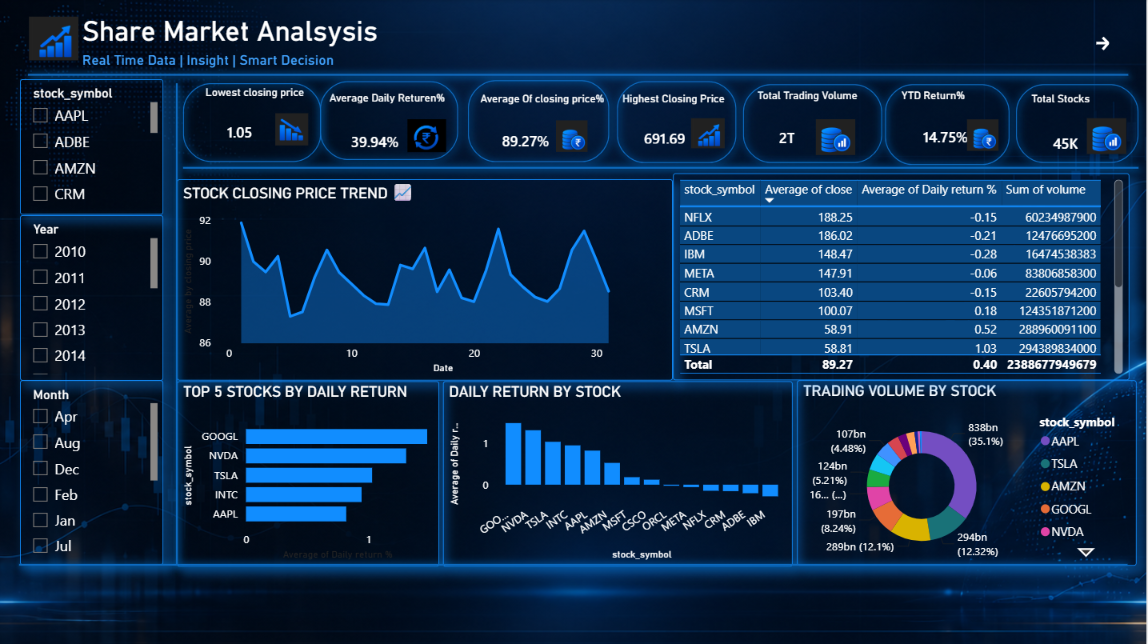

The dashboard page shown, as its layout file describes it:
{"tool":"powerbi","page":{"name":"MARKET_OVERVIEW","canvas":[1280,720],"ordinal":0},"visuals":[{"type":"cardVisual","title":"Total Trading Volume","fields":{"Data":["big_tech_stock_prices.Total Trading Volume"]},"box":[840.7,100,123.3,80.2],"z":0},{"type":"stackedAreaChart","title":"STOCK CLOSING PRICE TREND 📈","fields":{"Category":["big_tech_stock_prices.date.Variation.Date Hierarchy.Day"],"Y":["Avg(big_tech_stock_prices.close)"]},"box":[197.7,201.2,553.5,224.4],"z":1000},{"type":"clusteredBarChart","title":"TOP 5 STOCKS BY DAILY RETURN","fields":{"Category":["big_tech_stock_prices.stock_symbol"],"Y":["Avg(big_tech_stock_prices.Daily return %)"]},"box":[198,426,293,207],"z":2000},{"type":"donutChart","title":"TRADING VOLUME BY STOCK","fields":{"Category":["big_tech_stock_prices.stock_symbol"],"Y":["Sum(big_tech_stock_prices.volume)"]},"box":[889.5,425.6,379.1,207],"z":3000},{"type":"clusteredColumnChart","title":"DAILY RETURN BY STOCK","fields":{"Category":["big_tech_stock_prices.stock_symbol"],"Y":["Avg(big_tech_stock_prices.Daily return %)"]},"box":[495,426,390,207],"z":4000},{"type":"tableEx","title":"STOCK PERFORMANCE SUMMARY","fields":{"Values":["big_tech_stock_prices.stock_symbol","Avg(big_tech_stock_prices.close)","Avg(big_tech_stock_prices.Daily return %)","Sum(big_tech_stock_prices.volume)"]},"box":[751.2,194.2,509.3,231.4],"z":5000},{"type":"slicer","fields":{"Values":["big_tech_stock_prices.stock_symbol"]},"box":[22.2,88.9,160,151.1],"z":6000},{"type":"cardVisual","title":"Average Daily Returen%","fields":{"Data":["big_tech_stock_prices.Average Daily Return"]},"box":[362.8,102.3,180,85],"z":7000},{"type":"cardVisual","title":"Highest Closing Price","fields":{"Data":["big_tech_stock_prices.Highest Closing Price"]},"box":[689.5,103.5,142,75],"z":8000},{"type":"cardVisual","title":"Average Of closing price%","fields":{"Data":["big_tech_stock_prices.Average Closing Price Display"]},"box":[531.4,103.5,178,82],"z":9000},{"type":"cardVisual","title":"Lowest closing price","fields":{"Data":["big_tech_stock_prices.Lowest Closing Price"]},"box":[224.4,96.7,155.6,75.6],"z":10000},{"type":"shape","box":[195.3,84.9,172.1,105.8],"z":11000},{"type":"shape","box":[820.9,86,173.3,105.8],"z":12000},{"type":"image","box":[302.3,126.7,46,36],"z":13000},{"type":"image","box":[760.5,132.6,60.5,33.7],"z":14000},{"type":"image","box":[620.9,132.6,35,40],"z":15000},{"type":"image","box":[908.1,133.7,50,40],"z":16000},{"type":"textbox","title":"Share Market Analsysis","box":[87,18,734,52],"z":17000},{"type":"image","box":[32,18,55,52],"z":18000},{"type":"textbox","title":"Real Time Data | Insight | Smart Decision","box":[87,59,734,22],"z":19000},{"type":"slicer","fields":{"Values":["big_tech_stock_prices.date.Variation.Date Hierarchy.Year"]},"box":[22.2,241.1,160,184.4],"z":20000},{"type":"slicer","fields":{"Values":["big_tech_stock_prices.Month"]},"box":[22.2,425.6,160,206.7],"z":21000},{"type":"shape","box":[348.8,82.6,172.1,105.8],"z":22000},{"type":"shape","box":[514,81.4,175.6,109.3],"z":23000},{"type":"shape","box":[680.2,82.6,151.2,109.3],"z":24000},{"type":"shape","box":[12.8,601.2,1255.8,61.6],"z":25000},{"type":"shape","box":[150,84.4,95.6,556.7],"z":26000},{"type":"shape","box":[195.3,157,1084.9,61.6],"z":27000},{"type":"shape","box":[22.1,53.5,1246.5,61.6],"z":28000},{"type":"shape","box":[979.1,86,157,108.1],"z":29000},{"type":"shape","box":[1125.6,86,154.7,105.8],"z":30000},{"type":"cardVisual","title":"Total Stocks","fields":{"Data":["big_tech_stock_prices.Total Stocks"]},"box":[1146.5,103.5,114,87.2],"z":31000},{"type":"image","box":[1210.5,132.6,50,40],"z":32000},{"type":"image","box":[453.5,133.7,47,37],"z":33000},{"type":"cardVisual","title":"YTD Return%","fields":{"Data":["big_tech_stock_prices.YTD Return %"]},"box":[1001.2,100,114,79.1],"z":34000},{"type":"image","box":[1080.2,131.4,35,40],"z":35000},{"type":"actionButton","box":[1210,28.8,55,41.2],"z":36000}]}

Visuals, with their boxes in screenshot pixels (x1, y1, x2, y2), scaled from the page's 1280x720 canvas onto the 1148x644 screenshot:
"Total Trading Volume" cardVisual: pyautogui.locateOnScreen(754, 89, 865, 161)
"STOCK CLOSING PRICE TREND 📈" stackedAreaChart: pyautogui.locateOnScreen(177, 180, 674, 381)
"TOP 5 STOCKS BY DAILY RETURN" clusteredBarChart: pyautogui.locateOnScreen(178, 381, 440, 566)
"TRADING VOLUME BY STOCK" donutChart: pyautogui.locateOnScreen(798, 381, 1138, 566)
"DAILY RETURN BY STOCK" clusteredColumnChart: pyautogui.locateOnScreen(444, 381, 794, 566)
"STOCK PERFORMANCE SUMMARY" tableEx: pyautogui.locateOnScreen(674, 174, 1131, 381)
slicer - big_tech_stock_prices.stock_symbol: pyautogui.locateOnScreen(20, 80, 163, 215)
"Average Daily Returen%" cardVisual: pyautogui.locateOnScreen(325, 92, 487, 168)
"Highest Closing Price" cardVisual: pyautogui.locateOnScreen(618, 93, 746, 160)
"Average Of closing price%" cardVisual: pyautogui.locateOnScreen(477, 93, 636, 166)
"Lowest closing price" cardVisual: pyautogui.locateOnScreen(201, 86, 341, 154)
shape: pyautogui.locateOnScreen(175, 76, 330, 171)
shape: pyautogui.locateOnScreen(736, 77, 892, 172)
image: pyautogui.locateOnScreen(271, 113, 312, 146)
image: pyautogui.locateOnScreen(682, 119, 736, 149)
image: pyautogui.locateOnScreen(557, 119, 588, 154)
image: pyautogui.locateOnScreen(814, 120, 859, 155)
"Share Market Analsysis" textbox: pyautogui.locateOnScreen(78, 16, 736, 63)
image: pyautogui.locateOnScreen(29, 16, 78, 63)
"Real Time Data | Insight | Smart Decision" textbox: pyautogui.locateOnScreen(78, 53, 736, 72)
slicer - big_tech_stock_prices.date.Variation.Date Hierarchy.Year: pyautogui.locateOnScreen(20, 216, 163, 381)
slicer - big_tech_stock_prices.Month: pyautogui.locateOnScreen(20, 381, 163, 566)
shape: pyautogui.locateOnScreen(313, 74, 467, 169)
shape: pyautogui.locateOnScreen(461, 73, 618, 171)
shape: pyautogui.locateOnScreen(610, 74, 746, 172)
shape: pyautogui.locateOnScreen(11, 538, 1138, 593)
shape: pyautogui.locateOnScreen(135, 75, 220, 573)
shape: pyautogui.locateOnScreen(175, 140, 1147, 196)
shape: pyautogui.locateOnScreen(20, 48, 1138, 103)
shape: pyautogui.locateOnScreen(878, 77, 1019, 174)
shape: pyautogui.locateOnScreen(1010, 77, 1147, 172)
"Total Stocks" cardVisual: pyautogui.locateOnScreen(1028, 93, 1131, 171)
image: pyautogui.locateOnScreen(1086, 119, 1131, 154)
image: pyautogui.locateOnScreen(407, 120, 449, 153)
"YTD Return%" cardVisual: pyautogui.locateOnScreen(898, 89, 1000, 160)
image: pyautogui.locateOnScreen(969, 118, 1000, 153)
actionButton: pyautogui.locateOnScreen(1085, 26, 1135, 63)
